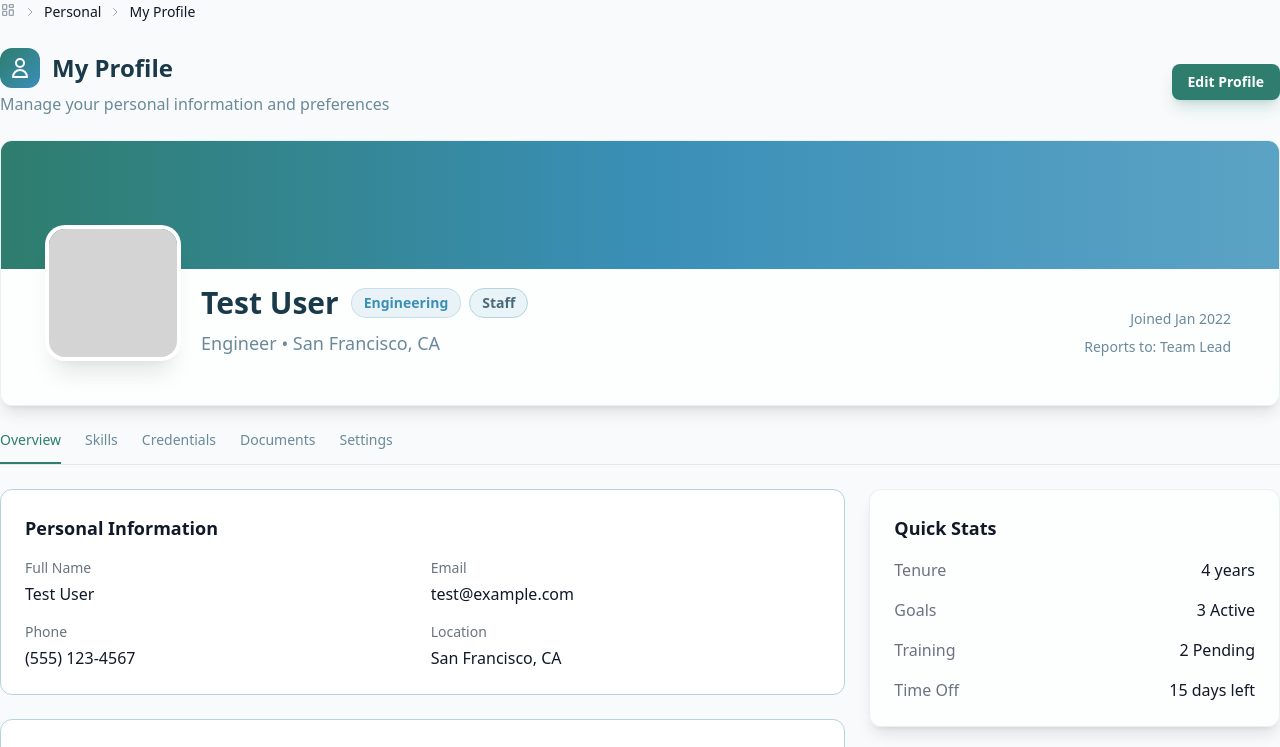
it: Profile Component › opens add credential modal
// Navigate to Credentials tab
Click the button "Credentials" at [179, 447], box [142,430,216,464]
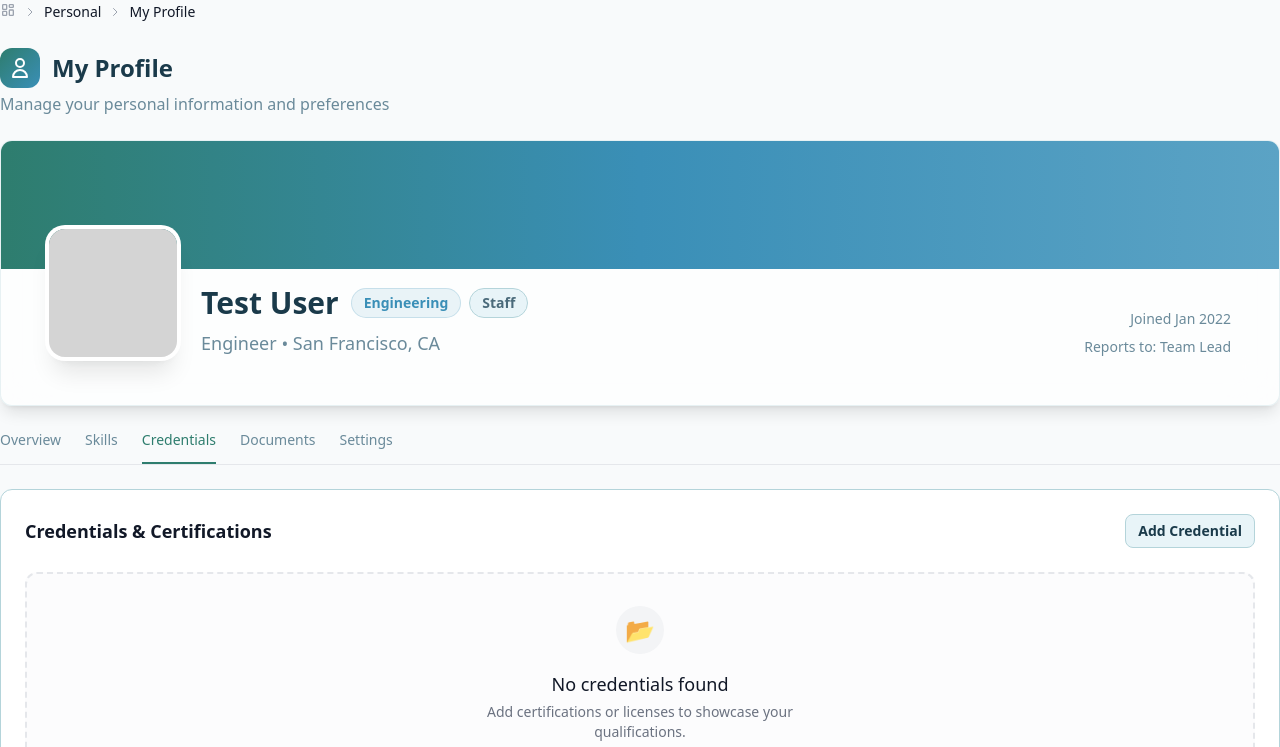
Click the button with test id "add-credential-button" at [1190, 531], box [1125,514,1255,548]
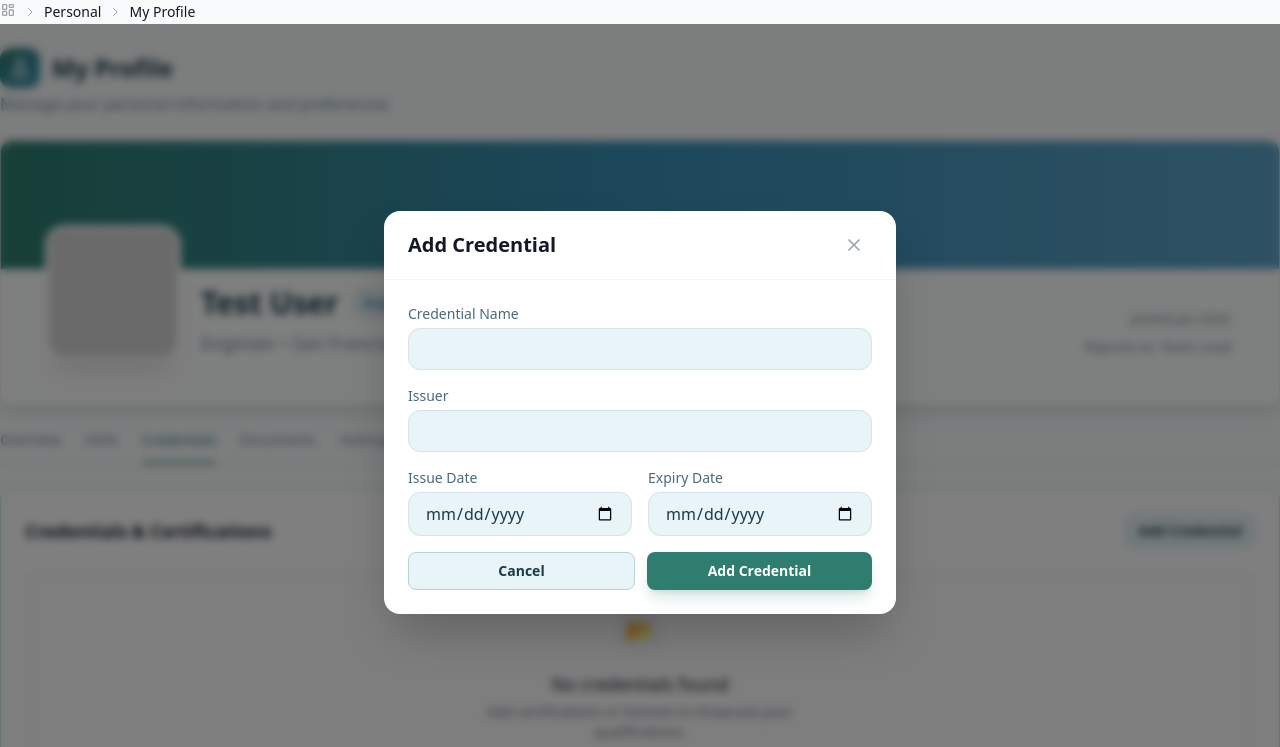
Check: the heading "Add Credential" is shown, box [408,230,556,258]
